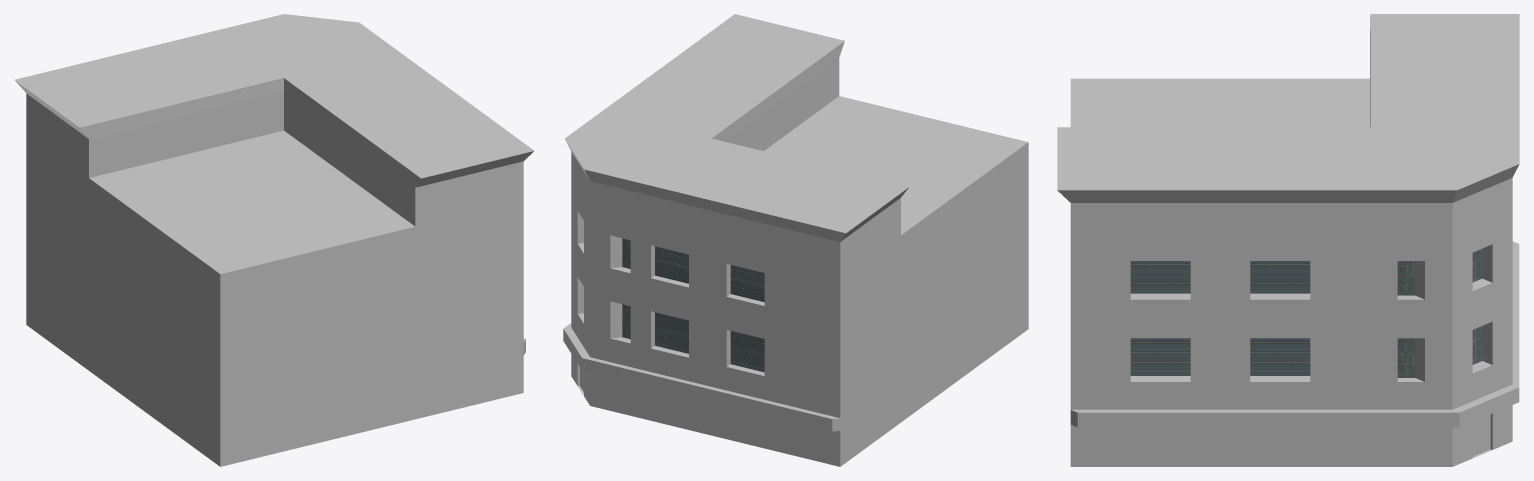
The model's file is low Quality building.fbx.
3 views of the same model, side by side, from view 1: azimuth 30°, elevation 25°; view 2: azimuth 150°, elevation 25°; view 3: azimuth 270°, elevation 25° (orthographic). The views are drawn at different scales.
Parts seen in each view (by area): view 1: Cube; view 2: Cube; view 3: Cube.
Boxes of the visible parts, x1,y1,x2,y2 form: Cube: (14, 14, 534, 466); Cube: (563, 14, 1028, 466); Cube: (1057, 14, 1519, 466).
Size of the model in its own units: 2932 by 2163 by 3245.
